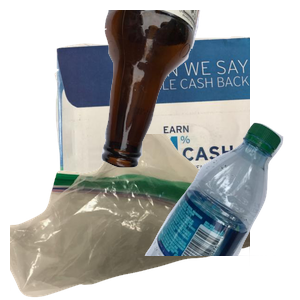glass: (99, 10, 300, 170)
paper: (52, 34, 292, 214)
plastic: (142, 120, 300, 300)
trash: (10, 134, 250, 300)
